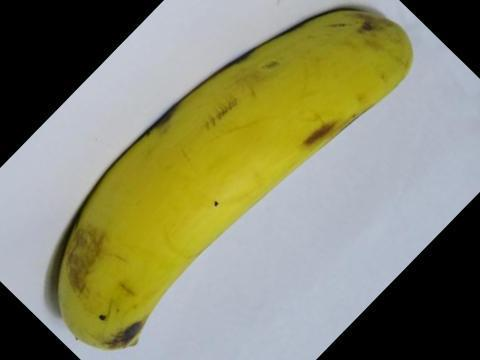freshripe: (42, 4, 420, 359)
